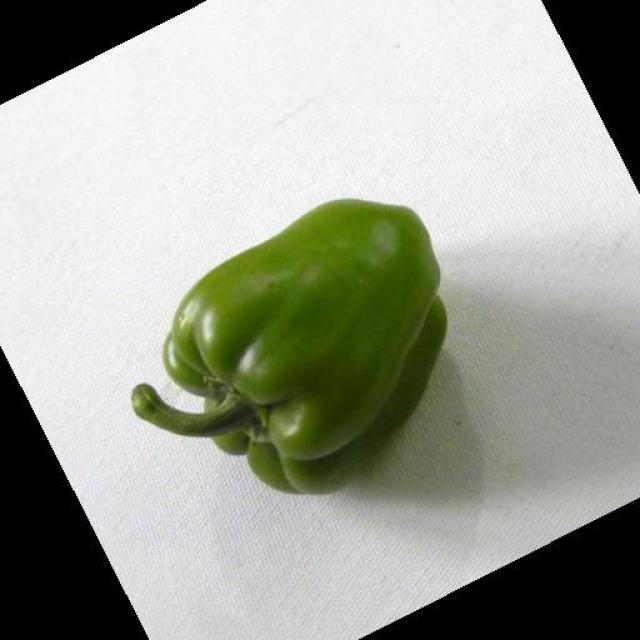Fresh_Capsicum: (118, 193, 480, 494)
